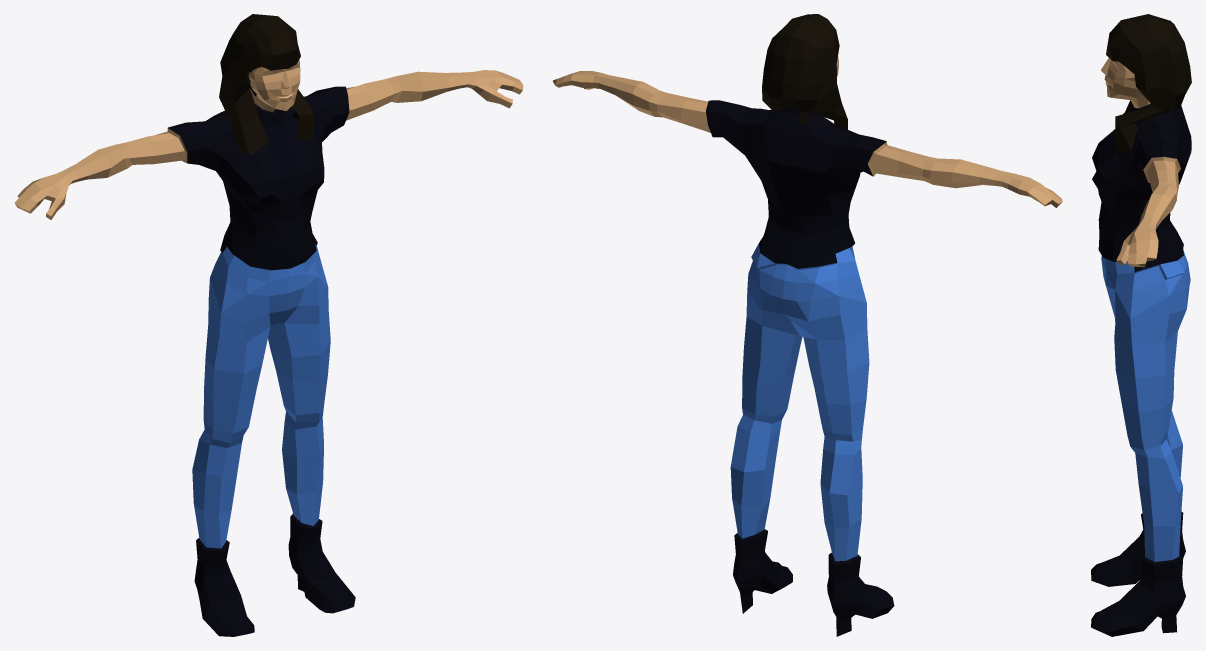
The model's file is person6.fbx.
3 renders of one model, left to right at view 1: azimuth 30°, elevation 25°; view 2: azimuth 150°, elevation 25°; view 3: azimuth 270°, elevation 25°, orthographic.
Parts seen in each view (by area): view 1: Girl1_Face002, Girl1_Chest002, Group006, Girl1_Shoes002, Girl1_Hair002; view 2: Girl1_Face002, Girl1_Chest002, Group006, Girl1_Hair002, Girl1_Shoes002; view 3: Girl1_Face002, Girl1_Chest002, Girl1_Hair002, Girl1_Shoes002, Group006.
Part boxes in pixels (left/top/right/bottom): Girl1_Face002: left=192, top=244, right=330, bottom=548; Girl1_Chest002: left=168, top=86, right=349, bottom=270; Group006: left=14, top=59, right=523, bottom=219; Girl1_Shoes002: left=194, top=514, right=355, bottom=636; Girl1_Hair002: left=219, top=14, right=314, bottom=155; Girl1_Face002: left=730, top=243, right=869, bottom=561; Girl1_Chest002: left=706, top=100, right=886, bottom=268; Group006: left=553, top=56, right=1062, bottom=207; Girl1_Hair002: left=762, top=14, right=847, bottom=129; Girl1_Shoes002: left=733, top=529, right=894, bottom=636; Girl1_Face002: left=1101, top=251, right=1190, bottom=561; Girl1_Chest002: left=1092, top=103, right=1191, bottom=272; Girl1_Hair002: left=1106, top=14, right=1191, bottom=152; Girl1_Shoes002: left=1091, top=511, right=1185, bottom=636; Group006: left=1101, top=57, right=1180, bottom=267.
Size of the model in its own units: 60.9 by 68.5 by 10.58.
